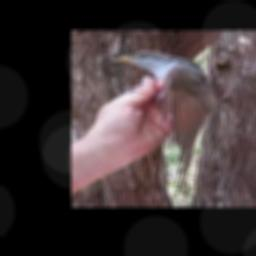Cuckoo: (110, 51, 216, 192)
